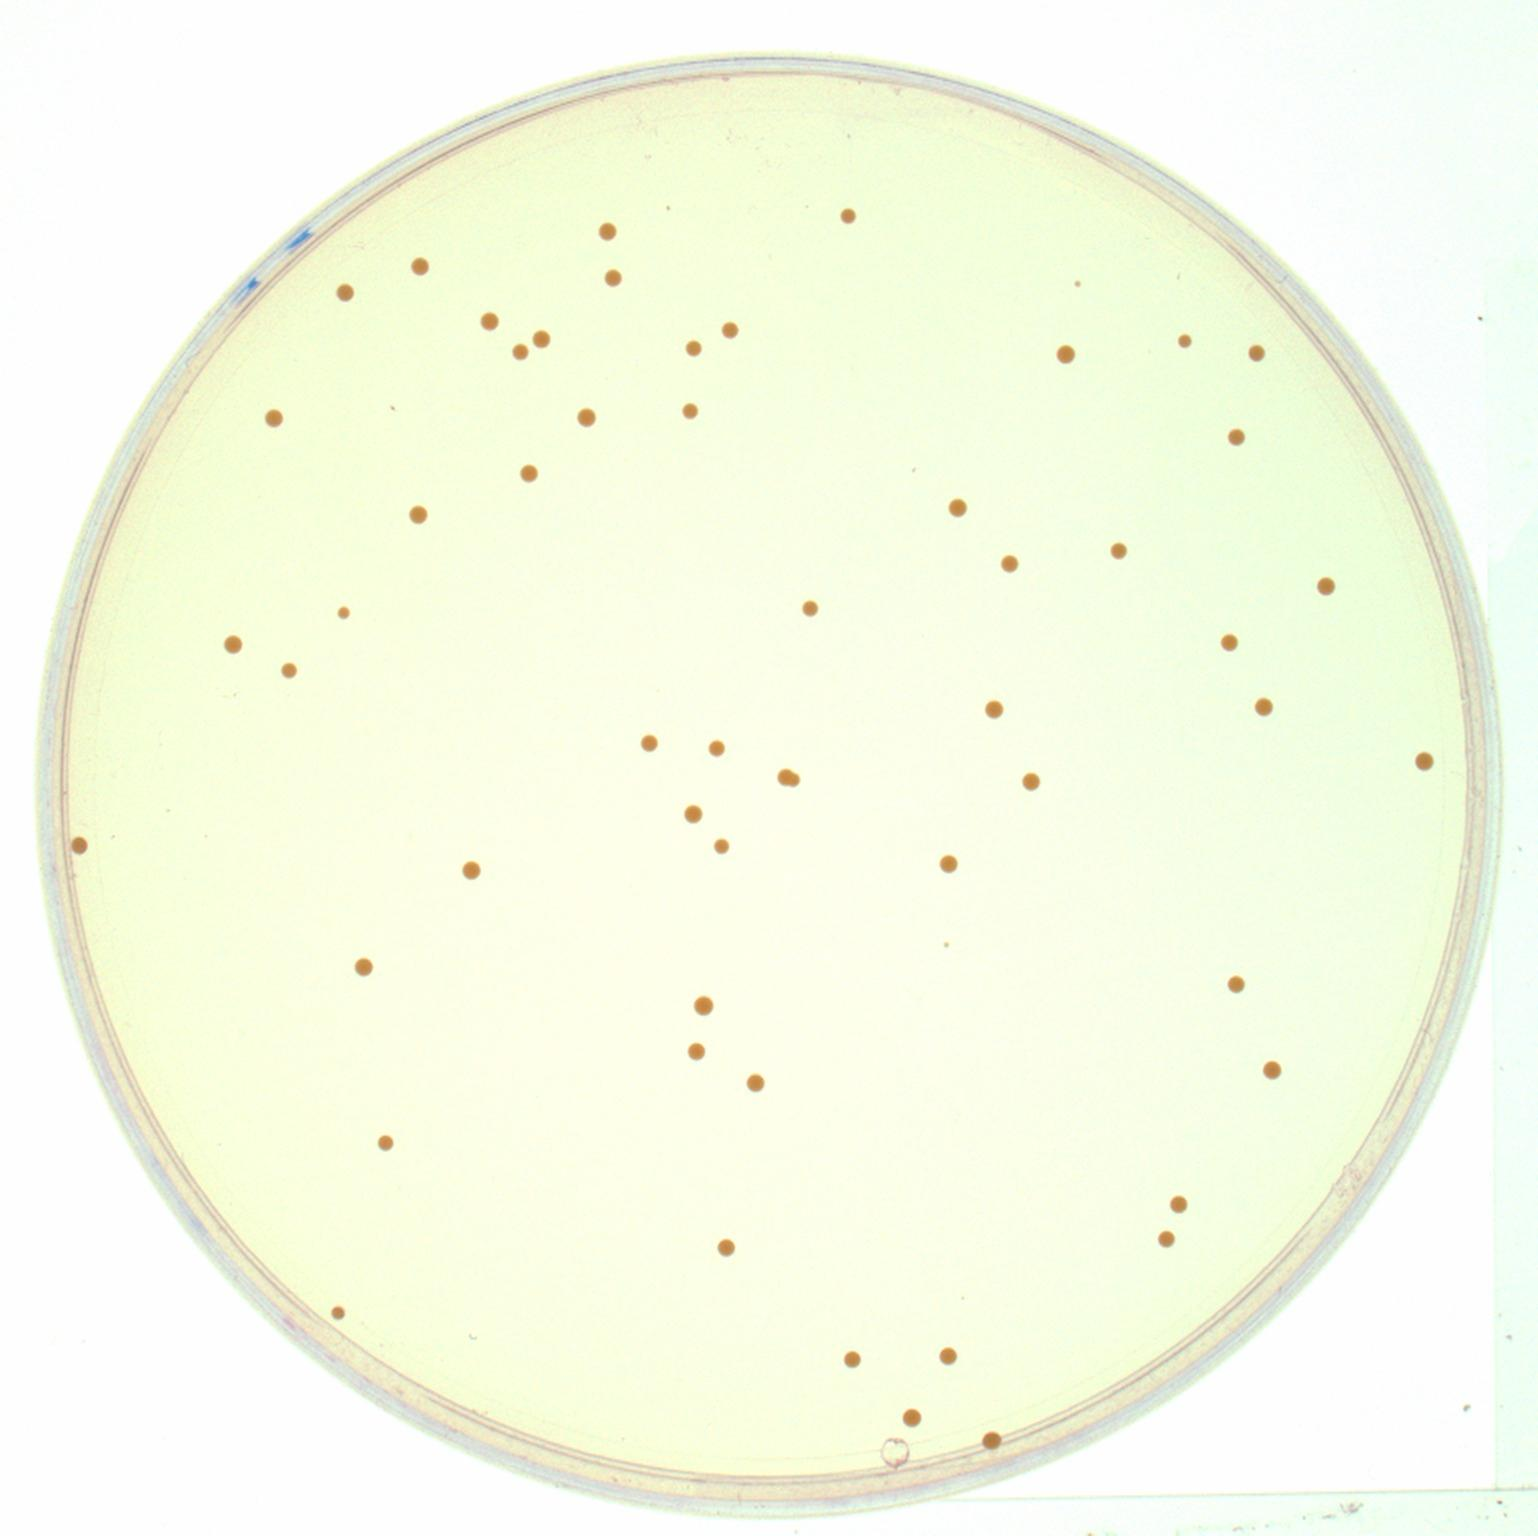colony: (688, 991, 717, 1020), (406, 253, 434, 281), (516, 459, 543, 488), (978, 1426, 1006, 1453), (64, 832, 91, 860), (1249, 692, 1276, 719), (1257, 1057, 1284, 1084), (594, 217, 620, 245), (572, 405, 600, 431), (525, 327, 554, 352), (936, 1343, 961, 1371), (1017, 769, 1043, 795), (1222, 971, 1247, 998), (477, 307, 502, 334), (980, 696, 1006, 721), (1104, 539, 1130, 564), (220, 631, 245, 657), (679, 802, 706, 826), (1217, 629, 1241, 656), (679, 398, 702, 426), (405, 503, 430, 528), (600, 266, 625, 291), (936, 852, 962, 876), (743, 1071, 767, 1097), (1314, 573, 1338, 598), (1166, 1192, 1190, 1217), (460, 858, 483, 884), (373, 1130, 396, 1156), (683, 1040, 707, 1064), (351, 954, 375, 978), (507, 340, 532, 363), (1413, 750, 1436, 775), (1225, 424, 1247, 450), (331, 279, 357, 301), (1244, 340, 1267, 364), (636, 732, 659, 755), (277, 658, 300, 681), (900, 1406, 924, 1428), (325, 1303, 347, 1326), (1155, 1226, 1177, 1248), (1055, 343, 1076, 366), (261, 407, 284, 428), (719, 318, 740, 341), (683, 336, 703, 360), (999, 554, 1021, 575), (705, 737, 725, 760), (710, 835, 731, 856), (715, 1237, 736, 1258), (947, 497, 967, 519), (1174, 329, 1193, 351), (841, 1350, 864, 1368), (800, 599, 819, 618), (776, 767, 793, 787), (839, 207, 857, 224), (335, 603, 351, 622), (788, 771, 802, 789)
